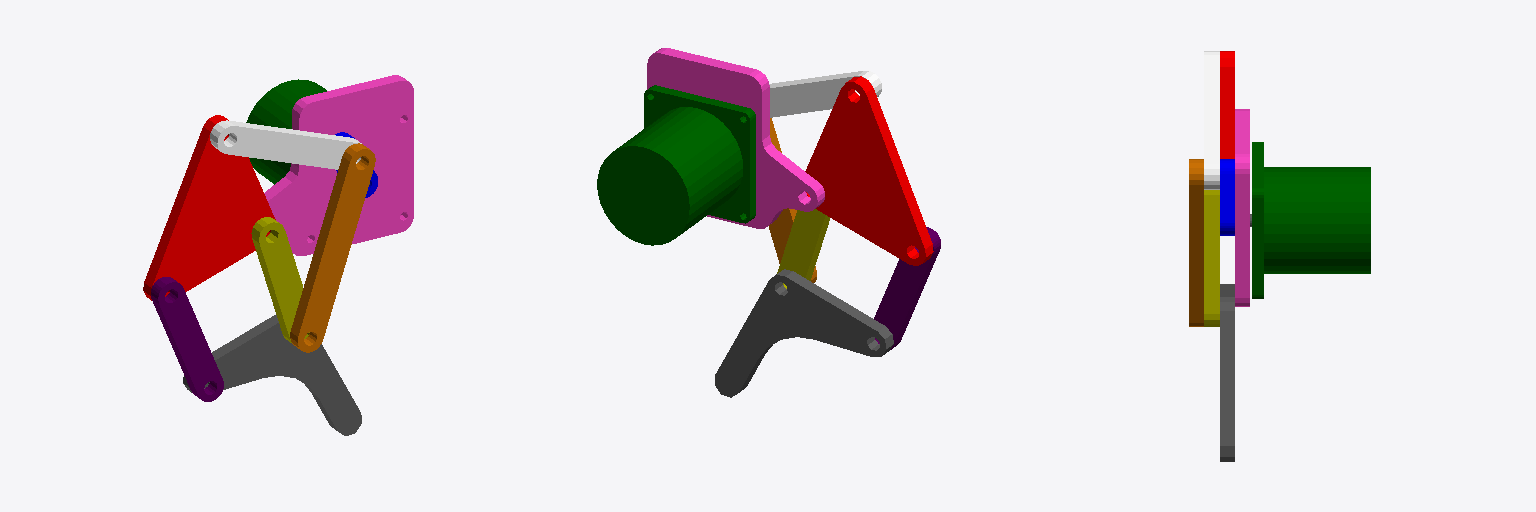
The model's file is jansen-asm.obj.
3 views of the same model, side by side, from view 1: azimuth 30°, elevation 25°; view 2: azimuth 150°, elevation 25°; view 3: azimuth 270°, elevation 25° (orthographic).
Bounding box in the file's own units: 102 × 125 × 59.47.